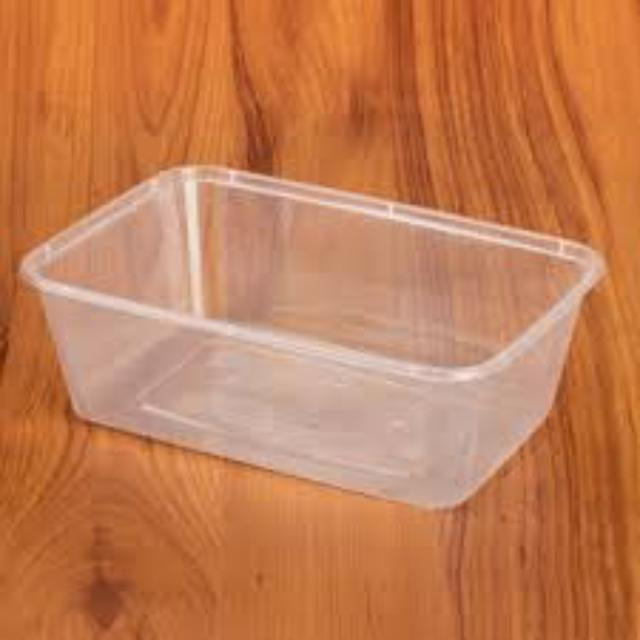Recipiente plastico: (21, 165, 608, 514)
